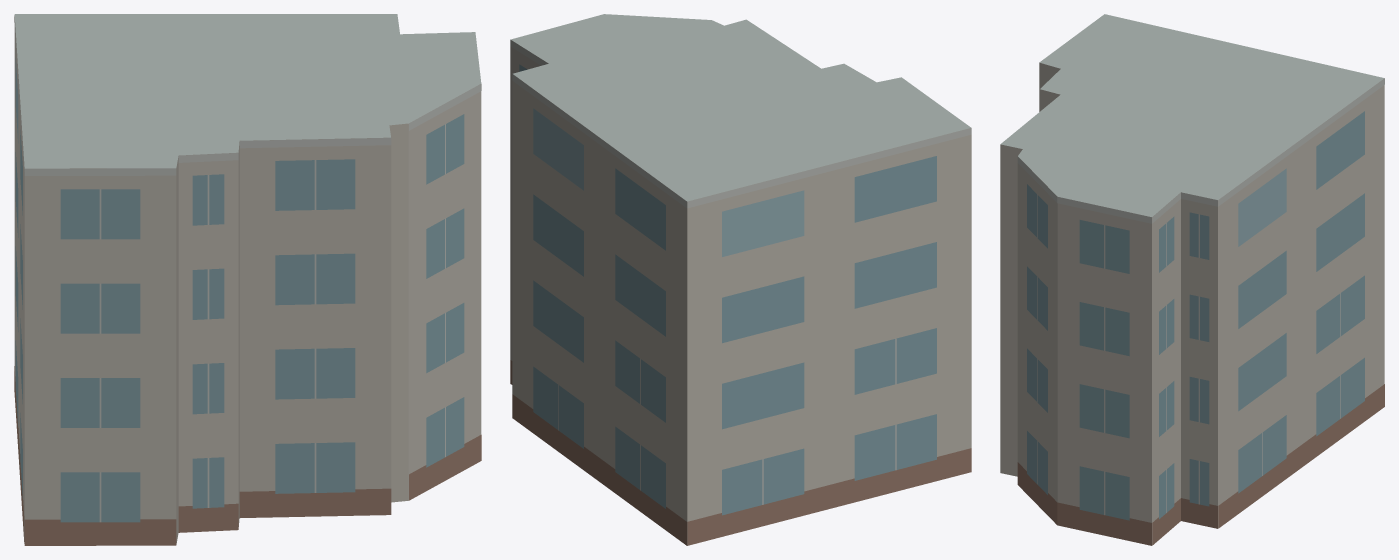
The model's file is survey-upis-33021191.glb.
3 renders of one model, left to right at view 1: azimuth 30°, elevation 25°; view 2: azimuth 150°, elevation 25°; view 3: azimuth 270°, elevation 25°, orthographic. The views are drawn at different scales.
Visible parts, largest first — view 1: survey-upis-33021191.tmp; view 2: survey-upis-33021191.tmp; view 3: survey-upis-33021191.tmp.
Boxes of the visible parts, x1=… form: survey-upis-33021191.tmp: x1=14, y1=14, x2=481, y2=545; survey-upis-33021191.tmp: x1=510, y1=14, x2=971, y2=545; survey-upis-33021191.tmp: x1=1000, y1=14, x2=1384, y2=545.
Bounding box in the file's own units: 16.19 × 12.2 × 12.95.
